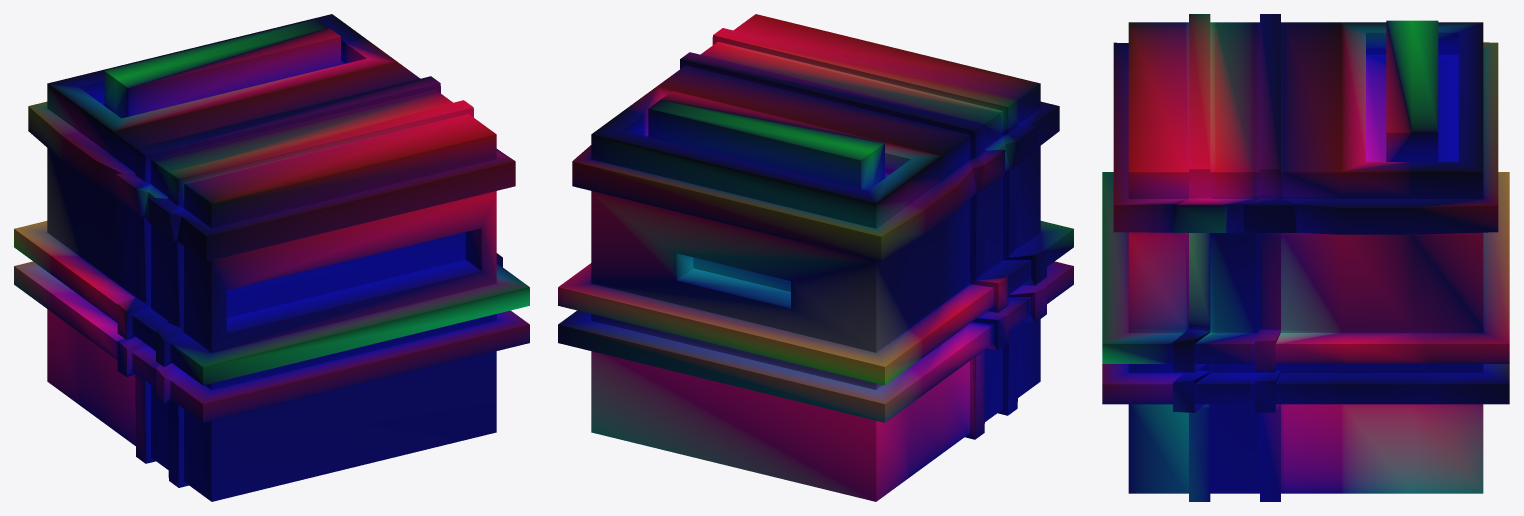
The model's file is Shader_Cube_Test.fbx.
3 renders of one model, left to right at view 1: azimuth 30°, elevation 25°; view 2: azimuth 150°, elevation 25°; view 3: azimuth 270°, elevation 25°, orthographic. The views are drawn at different scales.
Parts seen in each view (by area): view 1: Shader_Cube_Test; view 2: Shader_Cube_Test; view 3: Shader_Cube_Test.
Part boxes in pixels (bbox=[...]): Shader_Cube_Test: bbox=[14, 14, 529, 501]; Shader_Cube_Test: bbox=[558, 14, 1073, 501]; Shader_Cube_Test: bbox=[1102, 14, 1509, 501].
Bounding box in the file's own units: 238 × 216 × 230.
